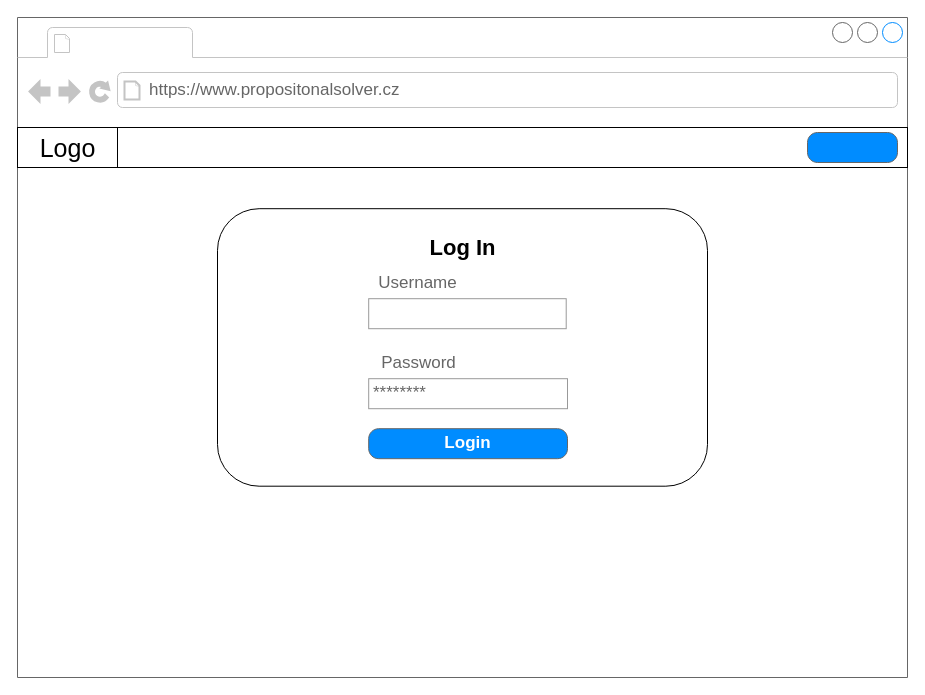
The diagram is 925 pixels wide and 695 high, and some of its shapes have lost their labels. The shapes that lost their labels are listed below. From the top down, each one's centre as x and y in pixels, then its label:
the point at 132,42: Page 1
the point at 852,147: Register
